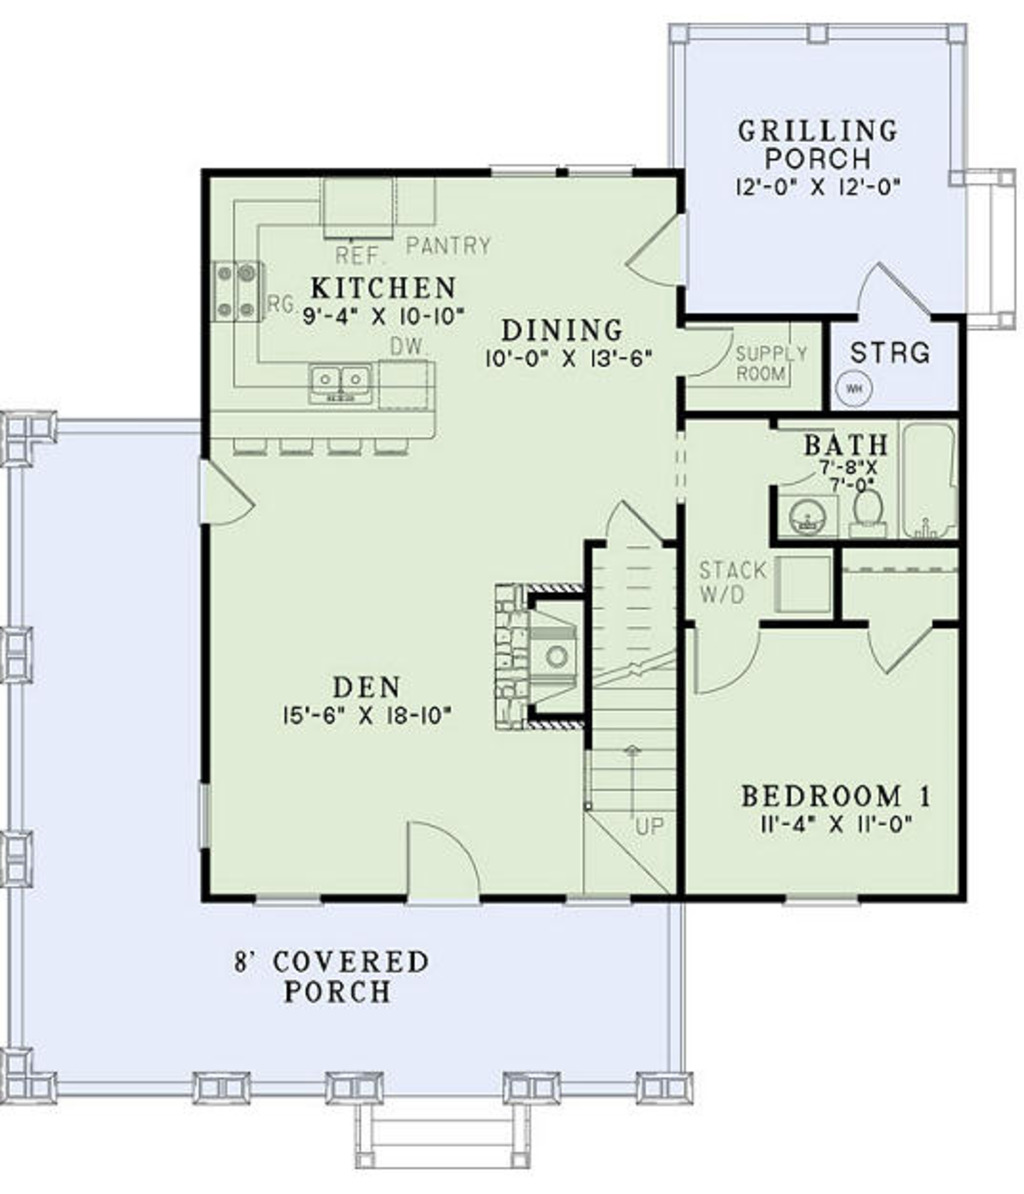Kitchen_bar: (209, 182, 452, 333)
door: (381, 813, 489, 911), (609, 200, 691, 288), (681, 606, 765, 690), (851, 262, 934, 324), (665, 313, 738, 382), (192, 460, 258, 530), (861, 619, 932, 682), (594, 482, 660, 539)
large_sink: (840, 481, 887, 545)
small_sink: (778, 484, 849, 540)
stairs: (581, 544, 681, 891)
tub: (891, 420, 961, 551)
twin_sink: (312, 360, 369, 422)
window: (191, 782, 221, 862)
windows: (491, 164, 636, 184)
